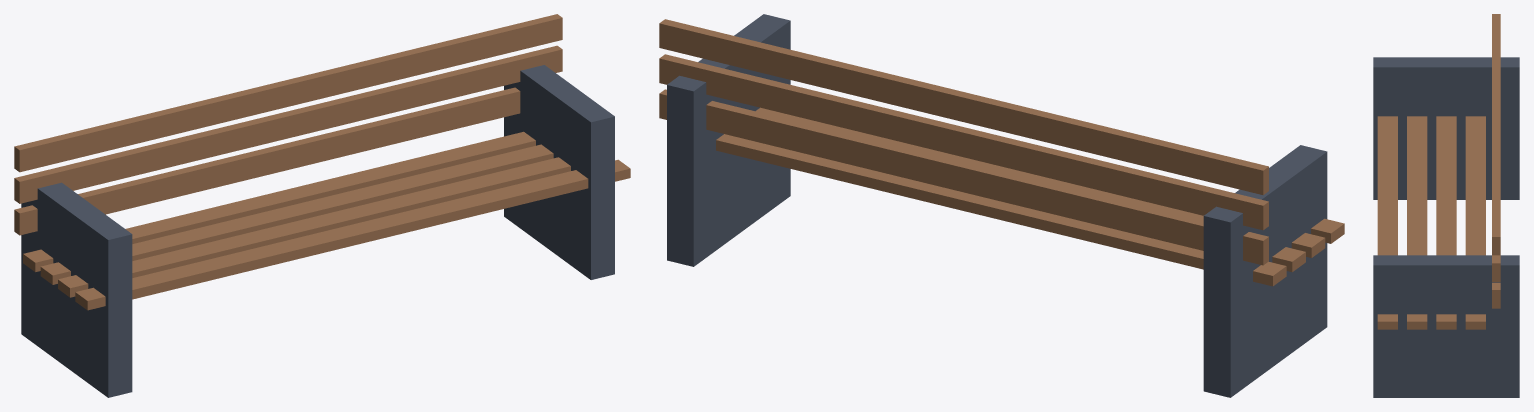
The model's file is bench.glb.
3 views of the same model, side by side, from view 1: azimuth 30°, elevation 25°; view 2: azimuth 150°, elevation 25°; view 3: azimuth 270°, elevation 25° (orthographic). The views are drawn at different scales.
Visible parts, largest first — view 1: Prop_Bench; view 2: Prop_Bench; view 3: Prop_Bench.
Part boxes in pixels (x1,y1,x2,y2): Prop_Bench: (14, 14, 630, 397); Prop_Bench: (659, 14, 1344, 397); Prop_Bench: (1373, 14, 1519, 397).
Bounding box in the file's own units: 1.8 × 0.635 × 0.5.
